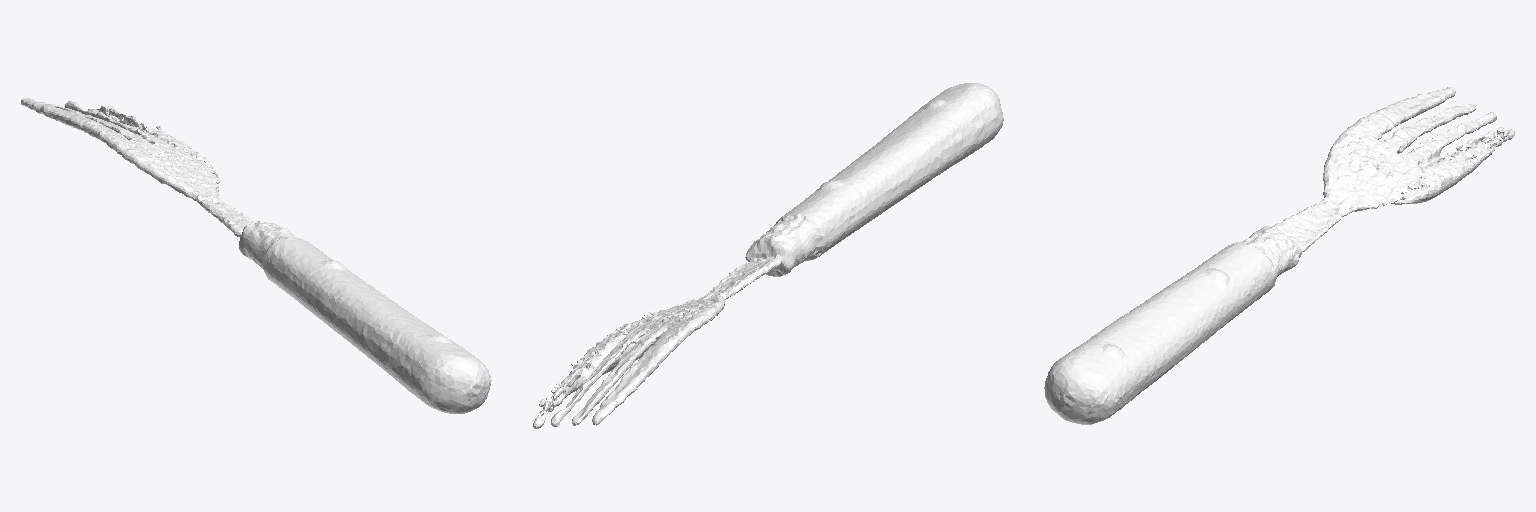
The robot description file, URDF, robot "fork":
<robot name="fork">
    <link name="base_link">
        <visual>
            <origin xyz="-0.0 0.0 -0.0" rpy="0.0 0.0 0.0" />
            <geometry>
                <mesh filename="fork/textured.obj" scale="1 1 1" />
            </geometry>
            <material name="texture">
                <color rgba="1.0 1.0 1.0 1.0" />
            </material>
        </visual>
        <collision>
            <origin xyz="-0.0 0.0 -0.0" rpy="0.0 0.0 0.0" />
            <geometry>
                <mesh filename="fork/textured_coacd_0.stl" scale="1 1 1" />
            </geometry>
        </collision>
        <collision>
            <origin xyz="-0.0 0.0 -0.0" rpy="0.0 0.0 0.0" />
            <geometry>
                <mesh filename="fork/textured_coacd_1.stl" scale="1 1 1" />
            </geometry>
        </collision>
        <inertial>
            <mass value="0.034" />
            <inertia ixx="1e-3" ixy="0.0" ixz="0.0" iyy="1e-3" iyz="0.0" izz="1e-3" />
        </inertial>
    </link>
</robot>

--- What the picture shows (computed from the rendered views, not written in the file) ---
Views: 3 orthographic renders of the robot side by side, from view 1: azimuth 30°, elevation 25°; view 2: azimuth 150°, elevation 25°; view 3: azimuth 330°, elevation 25°.
Robot: fork — 1 links, 0 joints (none); root link base_link; default pose: every joint at zero.
Visible links, largest first — view 1: base_link; view 2: base_link; view 3: base_link.
Boxes of the visible links, left/top/right/bottom form: base_link: left=21, top=98, right=491, bottom=413; base_link: left=533, top=83, right=1003, bottom=428; base_link: left=1044, top=87, right=1514, bottom=424.
Size in the robot's own frame: 0.0256 by 0.1978 by 0.0155 metres.
1 mesh visuals loaded from 1 distinct referenced files (1 OBJ).